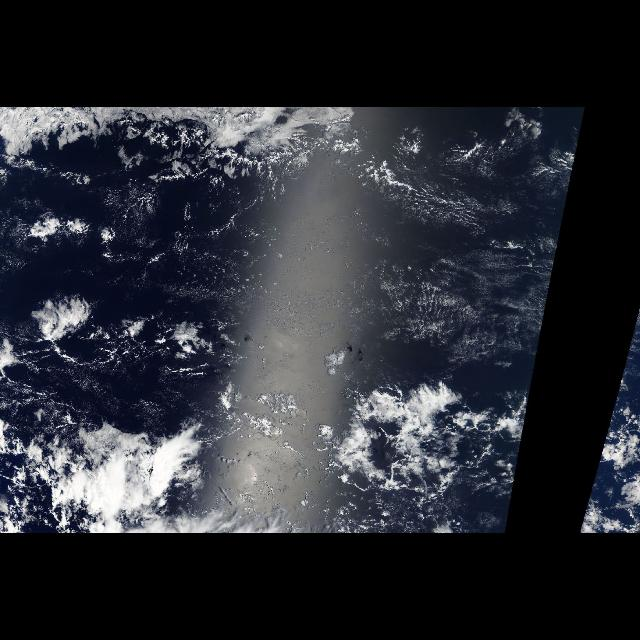Sugar: (174, 133, 570, 377)
